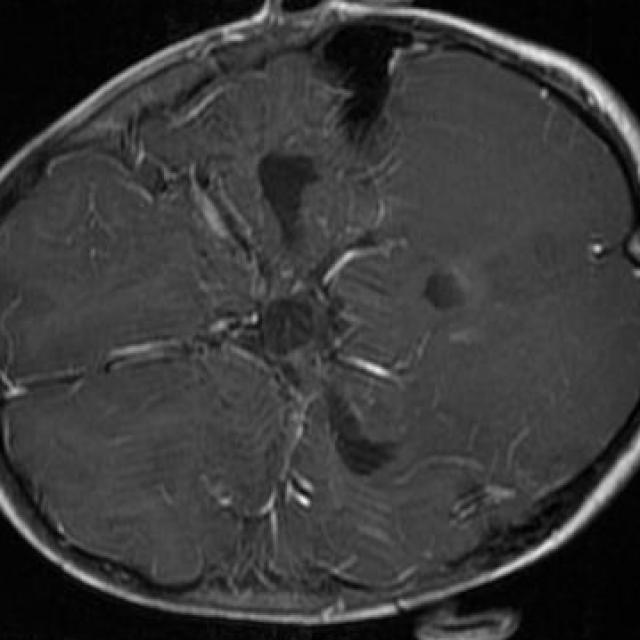glioma: (258, 155, 317, 248)
